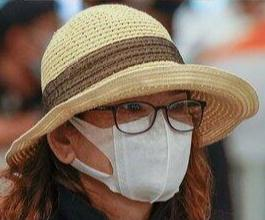OK: (94, 86, 193, 204)
